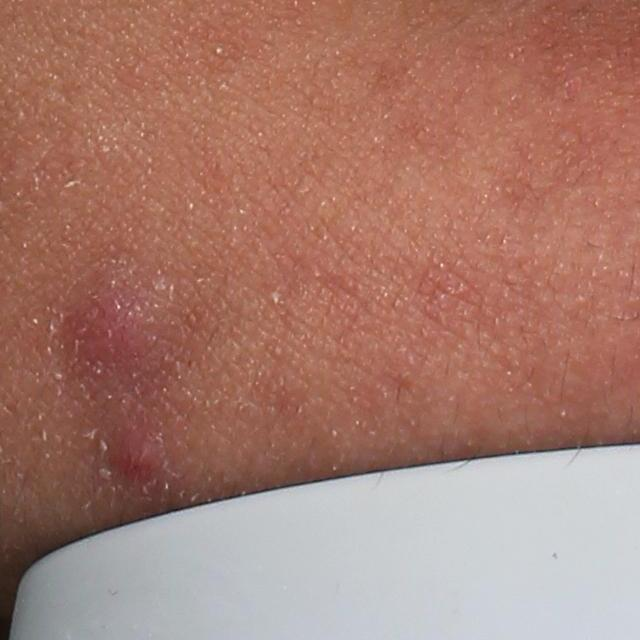papule: (68, 268, 172, 385), (93, 420, 165, 494)
